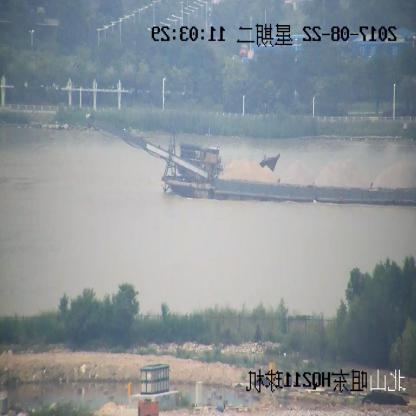Fishing Boat: (175, 139, 279, 178)
